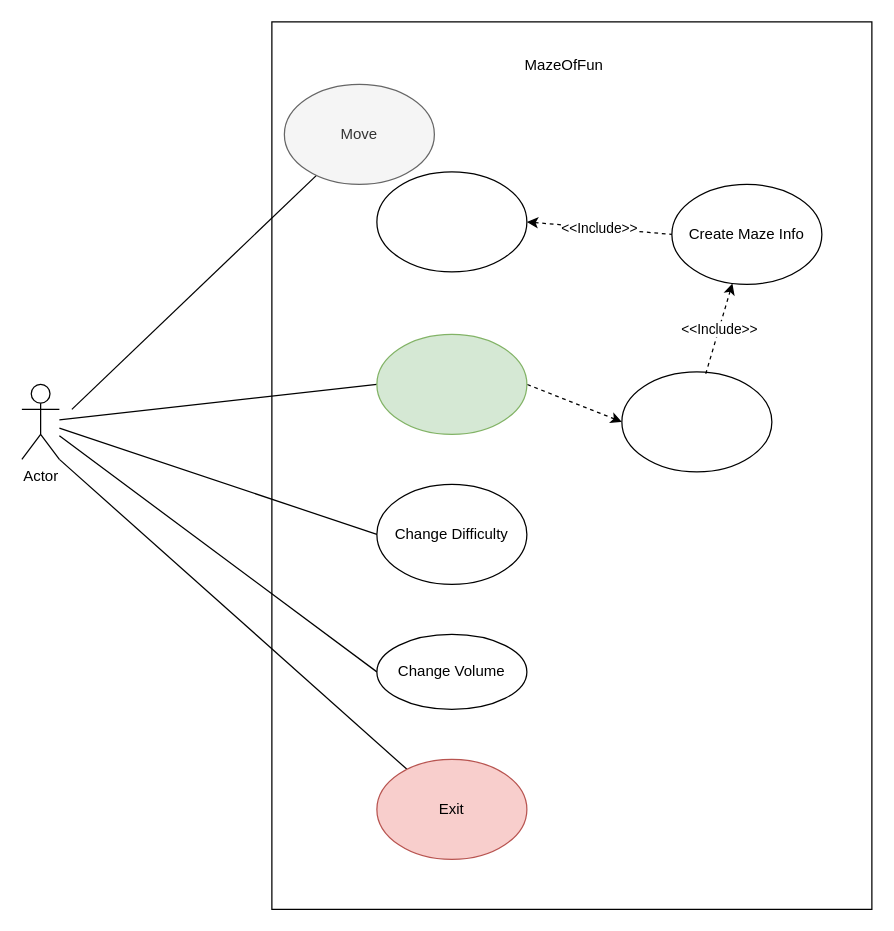
Some shapes in this 894 by 931 pixel diagram are drawn without their labels. The shapes that lost their labels are listed below. From the top down, each one's centre as x and y in pixels, then its label:
At pixel 451 221: "Create Maze Squares".
At pixel 451 383: "Start".
At pixel 696 421: "Create Maze".
